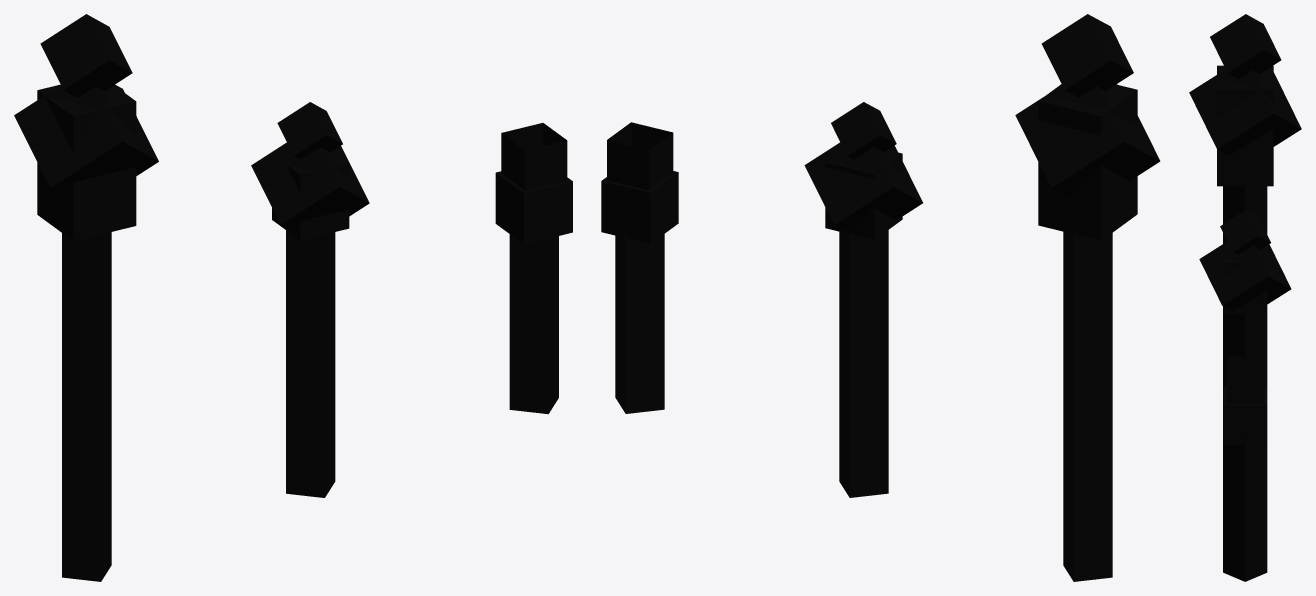
Rendered from wand_parts.obj.
3 renders of one model, left to right at view 1: azimuth 30°, elevation 25°; view 2: azimuth 150°, elevation 25°; view 3: azimuth 270°, elevation 25°, orthographic. The views are drawn at different scales.
Visible parts, largest first — view 1: beacon_head, long_core_simple_base, balanced_core_simple_base, orb_head, short_core_simple_ornament, cap_head; view 2: beacon_head, long_core_simple_base, balanced_core_simple_base, orb_head, short_core_simple_ornament, cap_head; view 3: beacon_head, short_core_simple_ornament, orb_head, cap_head, balanced_core_simple_base, long_core_simple_base.
Part boxes in pixels (left/top/right/bottom): beacon_head: left=14, top=14, right=158, bottom=241; long_core_simple_base: left=62, top=232, right=111, bottom=581; balanced_core_simple_base: left=286, top=227, right=335, bottom=497; orb_head: left=251, top=102, right=369, bottom=240; short_core_simple_ornament: left=509, top=227, right=558, bottom=414; cap_head: left=495, top=123, right=572, bottom=244; beacon_head: left=1015, top=14, right=1160, bottom=240; long_core_simple_base: left=1063, top=231, right=1112, bottom=581; balanced_core_simple_base: left=839, top=223, right=888, bottom=497; orb_head: left=804, top=102, right=922, bottom=239; short_core_simple_ornament: left=615, top=227, right=664, bottom=413; cap_head: left=601, top=122, right=678, bottom=243; beacon_head: left=1189, top=14, right=1301, bottom=186; short_core_simple_ornament: left=1223, top=430, right=1267, bottom=581; orb_head: left=1199, top=210, right=1291, bottom=314; cap_head: left=1223, top=356, right=1267, bottom=444; balanced_core_simple_base: left=1223, top=306, right=1267, bottom=429; long_core_simple_base: left=1223, top=186, right=1267, bottom=243.
Bounding box in the file's own units: 2.35 × 2.38 × 0.5604.
